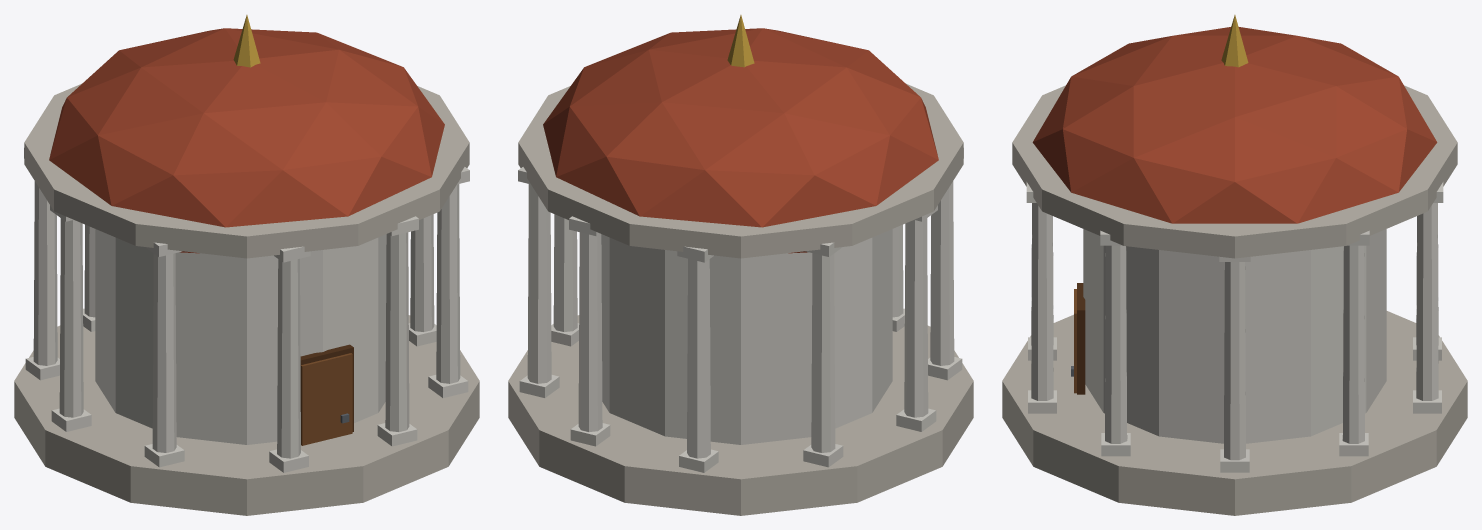
The model's file is angel_house_c.glb.
The picture shows the model from 3 angles, left to right: view 1: azimuth 30°, elevation 25°; view 2: azimuth 150°, elevation 25°; view 3: azimuth 270°, elevation 25°; orthographic projection.
Parts seen in each view (by area): view 1: angel_house_c; view 2: angel_house_c; view 3: angel_house_c.
Part boxes in pixels (bbox=[...]): angel_house_c: bbox=[14, 15, 479, 515]; angel_house_c: bbox=[508, 15, 973, 515]; angel_house_c: bbox=[1002, 15, 1467, 515].
Size of the model in its own units: 2.3 by 2.2 by 2.3.
